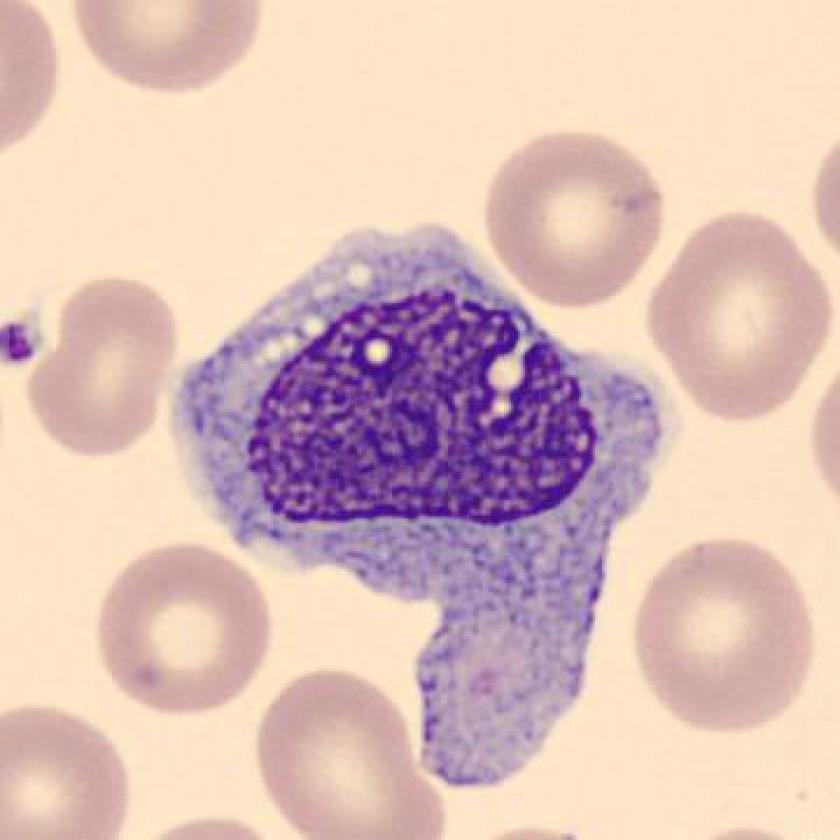monocyte: (162, 207, 696, 802)
